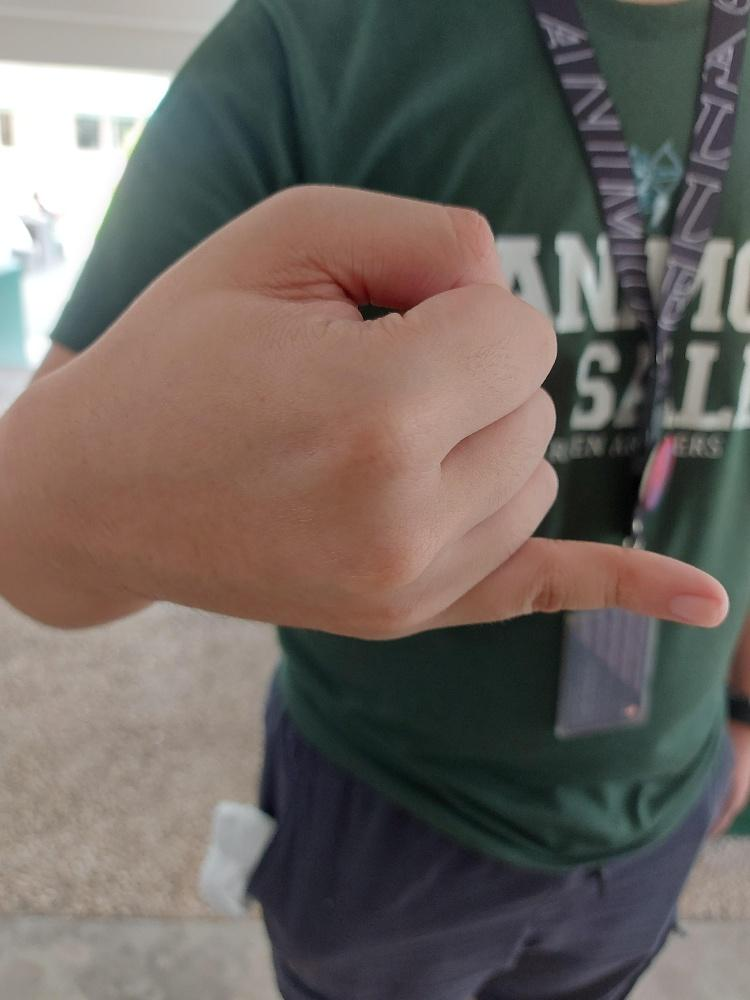j: (113, 180, 730, 643)
